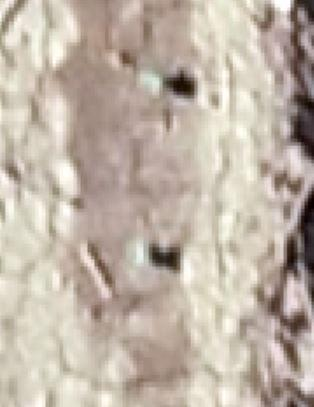cotton: (144, 73, 166, 93), (133, 242, 152, 265)
